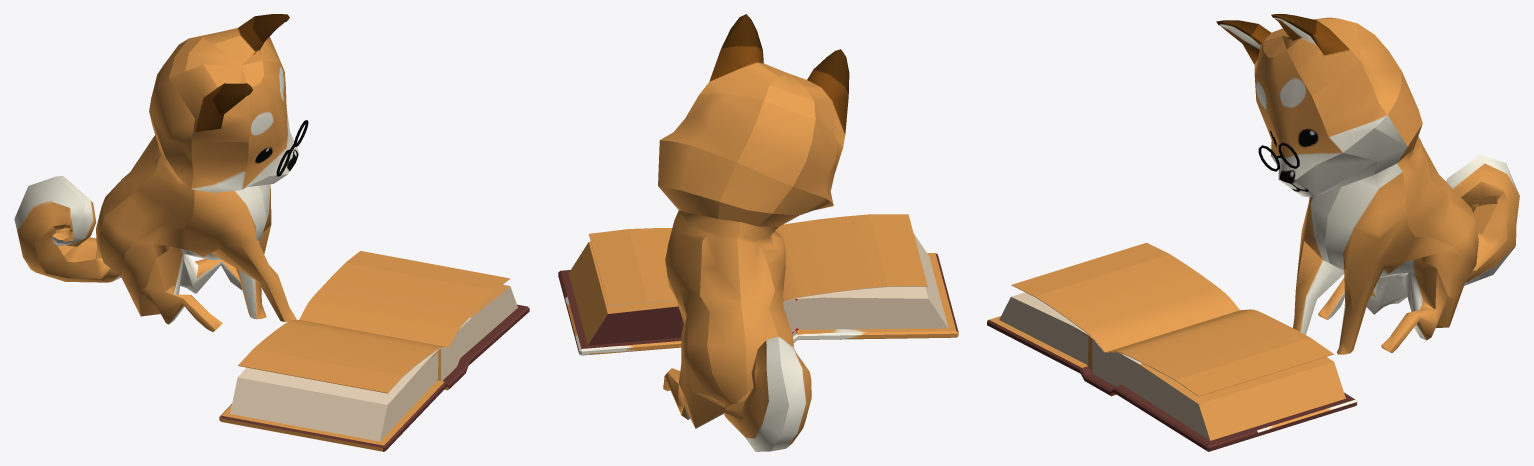
The model's file is book_frame25.obj.
3 views of the same model, side by side, from view 1: azimuth 30°, elevation 25°; view 2: azimuth 150°, elevation 25°; view 3: azimuth 270°, elevation 25° (orthographic). The views are drawn at different scales.
Visible parts, largest first — view 1: StidyGlasses_Computer_Sitting:Sitting:newRigging:BodzL1, polySurface1; view 2: StidyGlasses_Computer_Sitting:Sitting:newRigging:BodzL1, polySurface1; view 3: StidyGlasses_Computer_Sitting:Sitting:newRigging:BodzL1, polySurface1.
Boxes of the visible parts, x1=… form: StidyGlasses_Computer_Sitting:Sitting:newRigging:BodzL1: x1=14, y1=14, x2=299, y2=331; polySurface1: x1=219, y1=251, x2=529, y2=451; StidyGlasses_Computer_Sitting:Sitting:newRigging:BodzL1: x1=658, y1=14, x2=849, y2=451; polySurface1: x1=558, y1=214, x2=958, y2=355; StidyGlasses_Computer_Sitting:Sitting:newRigging:BodzL1: x1=1216, y1=14, x2=1519, y2=354; polySurface1: x1=987, y1=242, x2=1357, y2=451.
Size of the model in its own units: 9.18 by 7.66 by 11.01.
4 materials, 4 textured.
